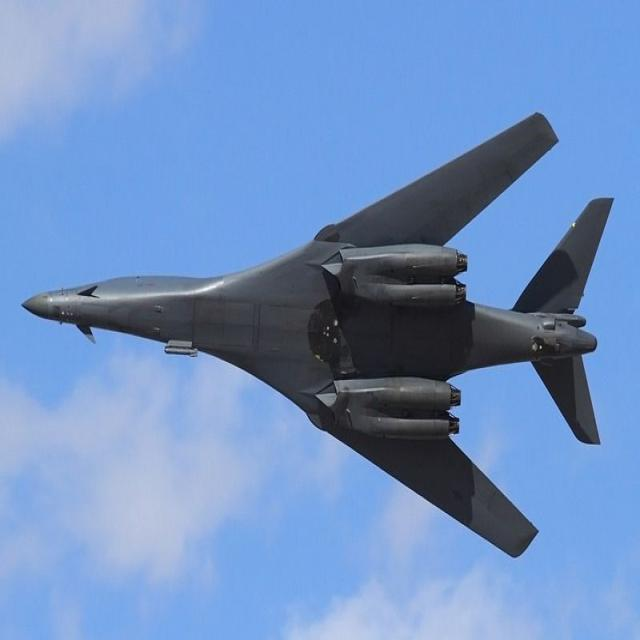MIL_Plane: (24, 105, 612, 552)
